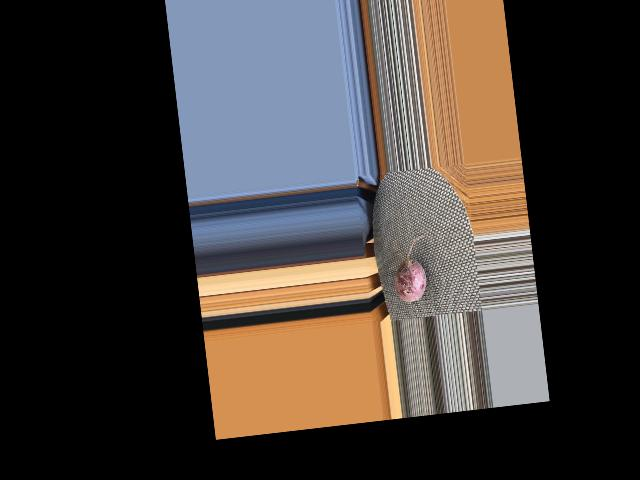beet: (389, 235, 432, 303)
